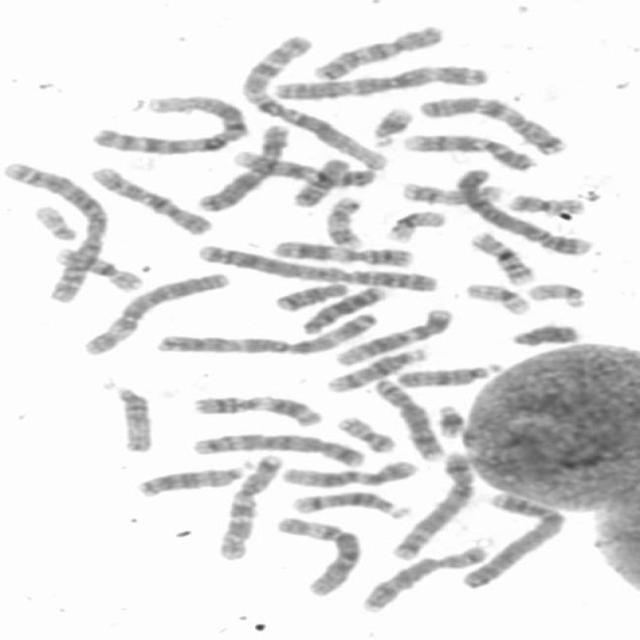A1: (239, 34, 389, 170), (90, 94, 249, 156)
A2: (2, 161, 112, 305), (197, 243, 440, 294)
A3: (152, 312, 380, 356), (270, 64, 488, 102)
B4: (455, 168, 594, 258), (459, 493, 567, 591)
B5: (392, 452, 476, 562), (190, 433, 367, 469)
C10: (90, 166, 216, 237), (312, 26, 446, 83)
C11: (191, 394, 326, 428), (271, 240, 417, 268)
C12: (333, 308, 452, 368), (279, 460, 420, 490)
C6: (82, 271, 232, 356), (274, 516, 362, 598)
C7: (416, 95, 570, 156), (216, 453, 283, 562)
C8: (360, 544, 491, 615), (370, 378, 447, 462)
C9: (231, 150, 378, 189), (401, 132, 537, 173)
D13: (135, 458, 255, 499), (299, 286, 386, 336)
D14: (326, 347, 429, 393), (290, 491, 409, 522)
D15: (98, 380, 154, 454), (396, 362, 503, 389)
E16: (55, 248, 145, 293), (471, 230, 535, 288)
E17: (400, 182, 507, 208), (323, 196, 365, 250)
E18: (293, 159, 350, 208), (274, 281, 350, 313)
F19: (463, 282, 531, 317), (385, 210, 447, 244)
F20: (337, 416, 397, 455), (510, 194, 585, 215)
G21: (370, 106, 415, 149), (436, 402, 466, 438)
G22: (32, 204, 78, 242), (528, 283, 590, 311)
X: (196, 123, 291, 213)
Y: (510, 323, 584, 348)
